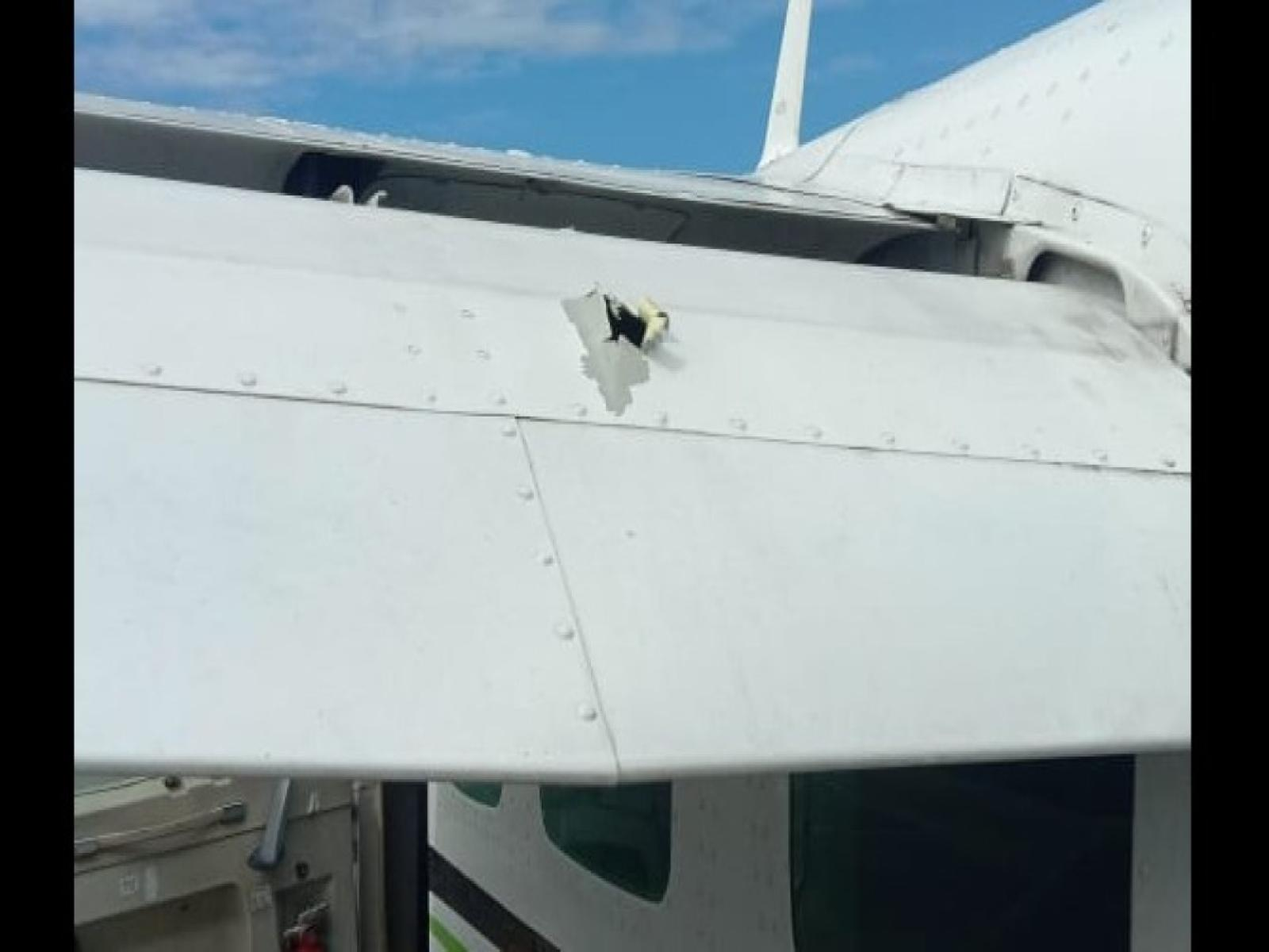Wing_damage: (563, 288, 668, 414)
